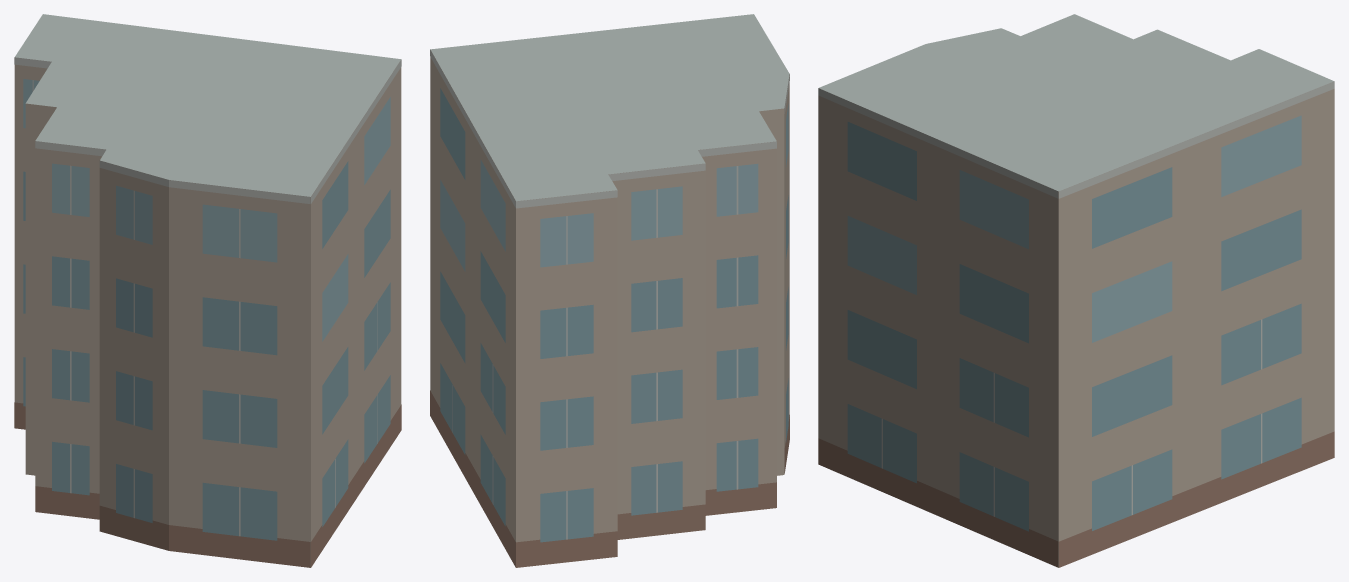
Rendered from survey-upis-32814348.glb.
3 renders of one model, left to right at view 1: azimuth 30°, elevation 25°; view 2: azimuth 150°, elevation 25°; view 3: azimuth 270°, elevation 25°, orthographic. The views are drawn at different scales.
Parts seen in each view (by area): view 1: survey-upis-32814348.tmp; view 2: survey-upis-32814348.tmp; view 3: survey-upis-32814348.tmp.
Part boxes in pixels (x1,y1,x2,y2): survey-upis-32814348.tmp: [14, 14, 401, 567]; survey-upis-32814348.tmp: [430, 14, 789, 567]; survey-upis-32814348.tmp: [818, 14, 1334, 567].
Size of the model in its own units: 12.55 by 12.4 by 15.42.
